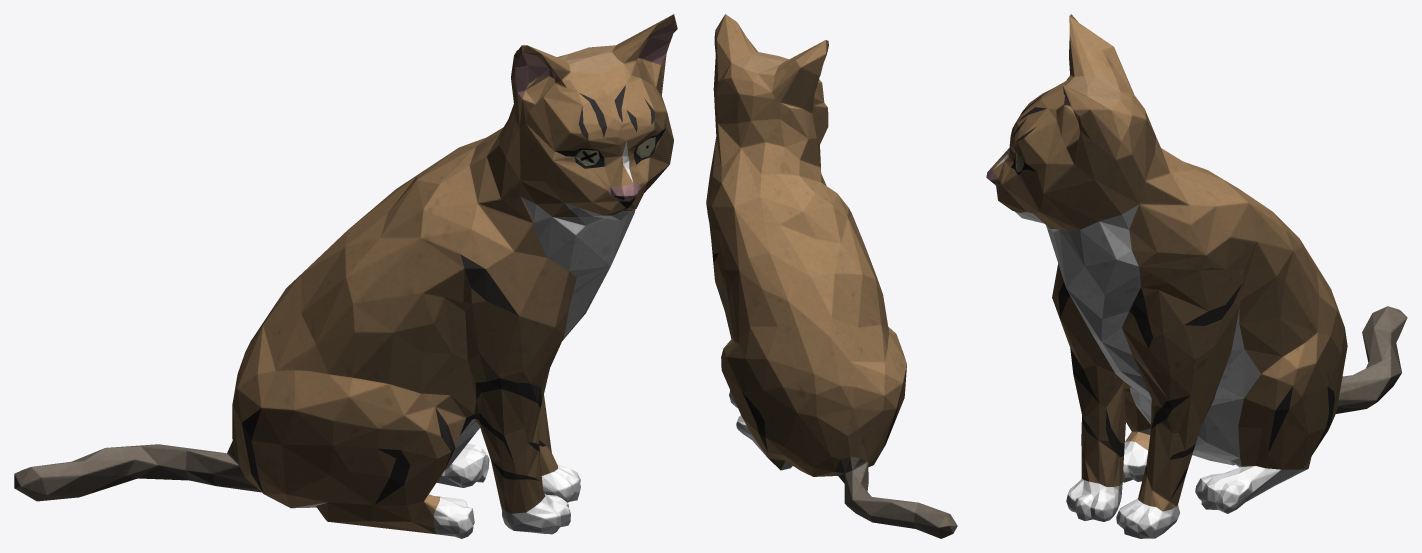
Rendered from Cat - low poly_super.glb.
3 views of the same model, side by side, from view 1: azimuth 30°, elevation 25°; view 2: azimuth 150°, elevation 25°; view 3: azimuth 270°, elevation 25° (orthographic). The views are drawn at different scales.
Visible parts, largest first — view 1: node_id5; view 2: node_id5; view 3: node_id5.
Part boxes in pixels (x1,y1,x2,y2): node_id5: [14, 14, 677, 538]; node_id5: [706, 14, 957, 538]; node_id5: [986, 14, 1407, 538].
Size of the model in its own units: 0.5382 by 0.5124 by 0.4065.
1 material, 1 textured.
